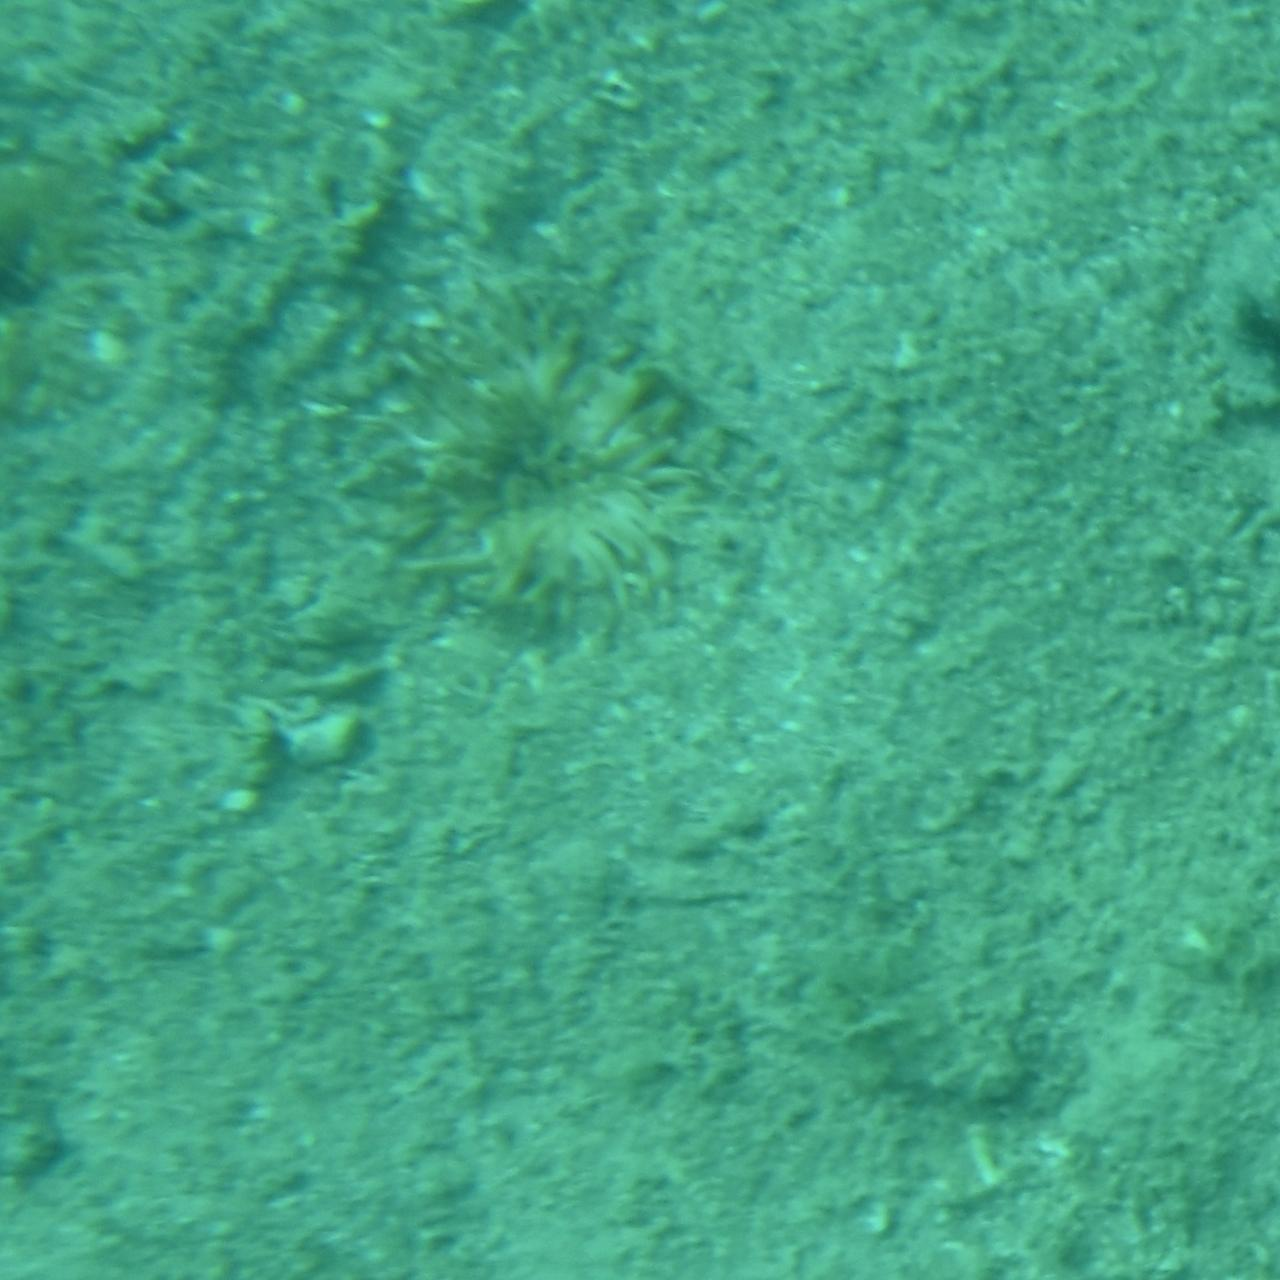Condylactis aurantiaca: (340, 298, 731, 631), (0, 125, 179, 418)
Holothuria tubulosa: (0, 838, 231, 1178), (1021, 151, 1280, 430)
